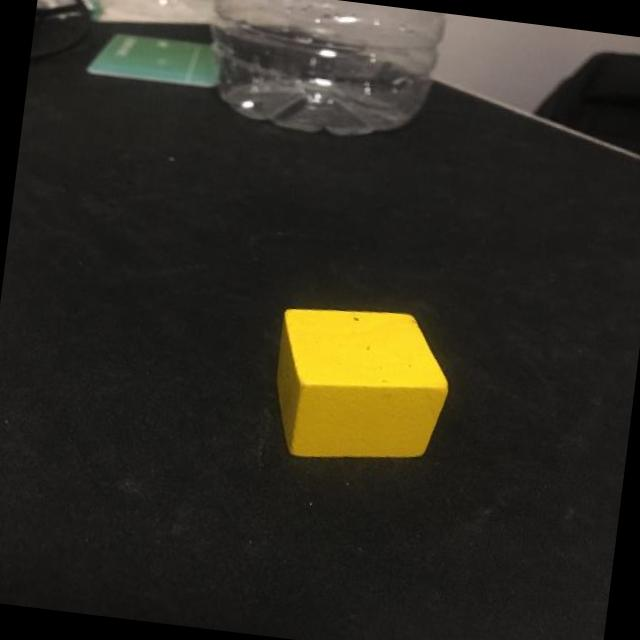yellow: (266, 299, 456, 470)
